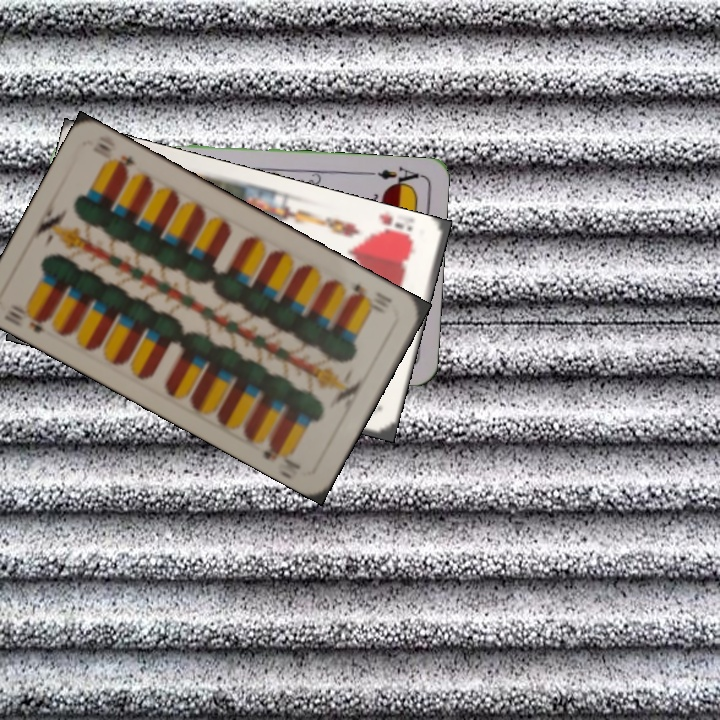E10: (3, 306, 53, 339), (346, 280, 395, 306)
EA: (364, 163, 423, 191)
HK: (366, 218, 416, 246)
